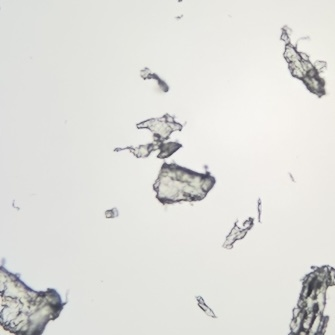microplastic: (1, 257, 70, 335), (280, 25, 326, 97), (114, 114, 187, 158), (289, 264, 334, 335), (152, 161, 215, 205), (222, 218, 255, 250), (140, 68, 169, 93), (196, 297, 216, 320), (105, 208, 118, 219), (257, 198, 262, 223), (288, 173, 297, 183)
